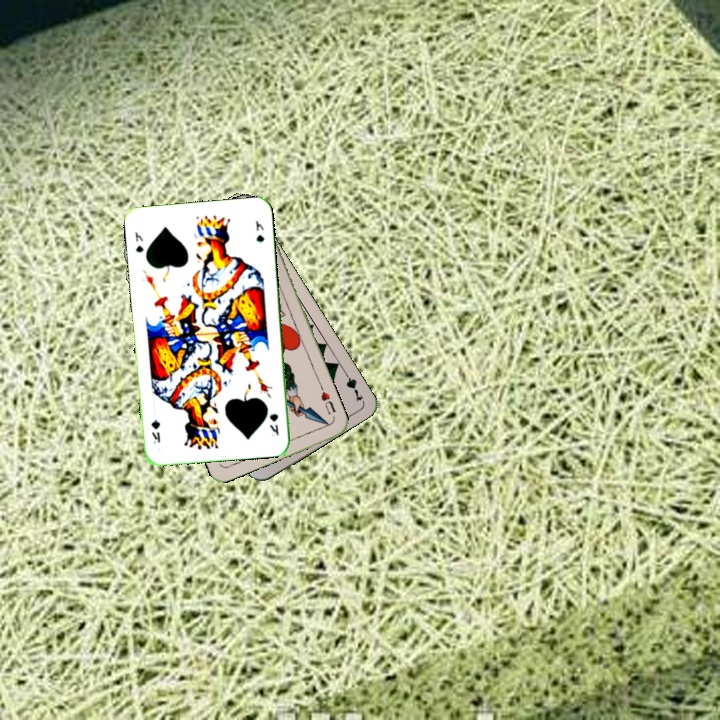G7: (339, 366, 366, 404)
GK: (265, 409, 281, 438), (131, 228, 146, 255)
HU: (316, 382, 338, 416)
